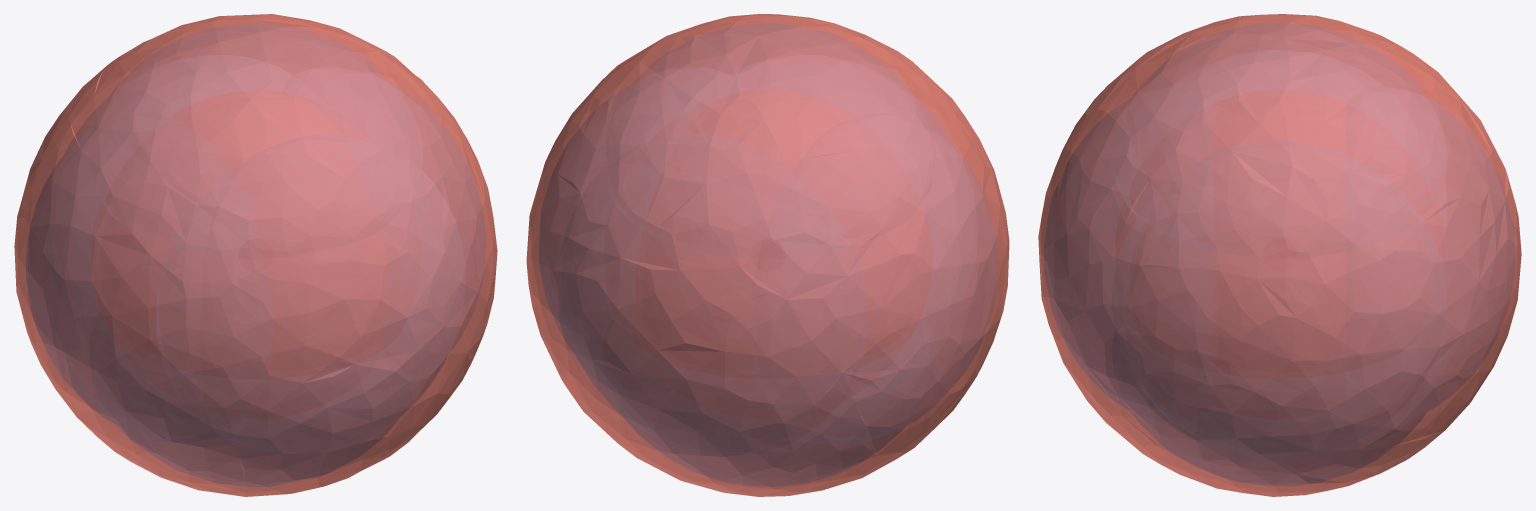
Rendered from orbital.glb.
3 views of the same model, side by side, from view 1: azimuth 30°, elevation 25°; view 2: azimuth 150°, elevation 25°; view 3: azimuth 270°, elevation 25° (orthographic).
Visible parts, largest first — view 1: P_n3_s_ml0_node, P_n3_p_ml-1_node, P_n3_p_ml1_node, P_n3_p_ml0_node; view 2: P_n3_s_ml0_node, P_n3_p_ml-1_node, P_n3_p_ml1_node, P_n3_p_ml0_node; view 3: P_n3_s_ml0_node, P_n3_p_ml0_node, P_n3_p_ml-1_node, P_n3_p_ml1_node.
Part boxes in pixels (x1,y1,x2,y2): P_n3_s_ml0_node: [14, 14, 497, 496]; P_n3_p_ml-1_node: [94, 24, 418, 486]; P_n3_p_ml1_node: [26, 84, 485, 440]; P_n3_p_ml0_node: [66, 97, 465, 453]; P_n3_s_ml0_node: [526, 14, 1009, 496]; P_n3_p_ml-1_node: [606, 24, 929, 486]; P_n3_p_ml1_node: [539, 86, 997, 439]; P_n3_p_ml0_node: [558, 98, 959, 453]; P_n3_s_ml0_node: [1038, 14, 1521, 496]; P_n3_p_ml0_node: [1044, 98, 1514, 414]; P_n3_p_ml-1_node: [1125, 23, 1433, 485]; P_n3_p_ml1_node: [1126, 287, 1432, 458].
Size of the model in its own units: 1.57 by 1.57 by 1.57.
